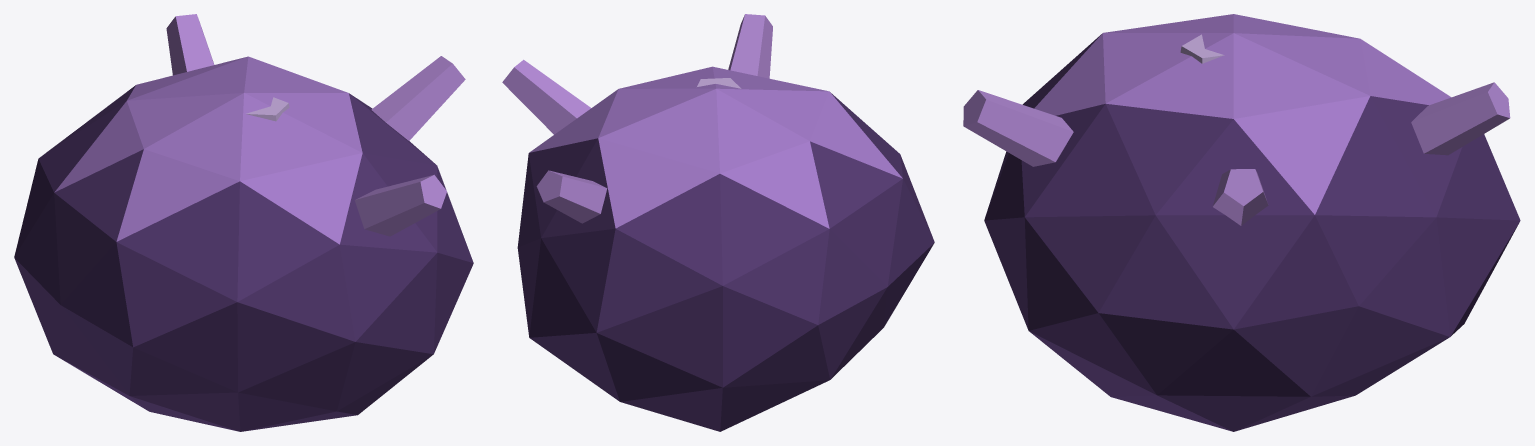
Rendered from glassite_worn.gltf.
3 renders of one model, left to right at view 1: azimuth 30°, elevation 25°; view 2: azimuth 150°, elevation 25°; view 3: azimuth 270°, elevation 25°, orthographic. The views are drawn at different scales.
Parts seen in each view (by area): view 1: rock, crystals, spike; view 2: rock, crystals; view 3: rock, crystals, spike.
Part boxes in pixels (box(x1,y1,x2,y2)): rock: box(14, 56, 473, 431); crystals: box(166, 14, 465, 236); spike: box(246, 97, 289, 121); rock: box(517, 66, 934, 431); crystals: box(502, 14, 772, 223); rock: box(984, 14, 1520, 431); crystals: box(963, 82, 1510, 225); spike: box(1180, 34, 1224, 63).
Bounding box in the file's own units: 4.78 × 3.58 × 5.07.
